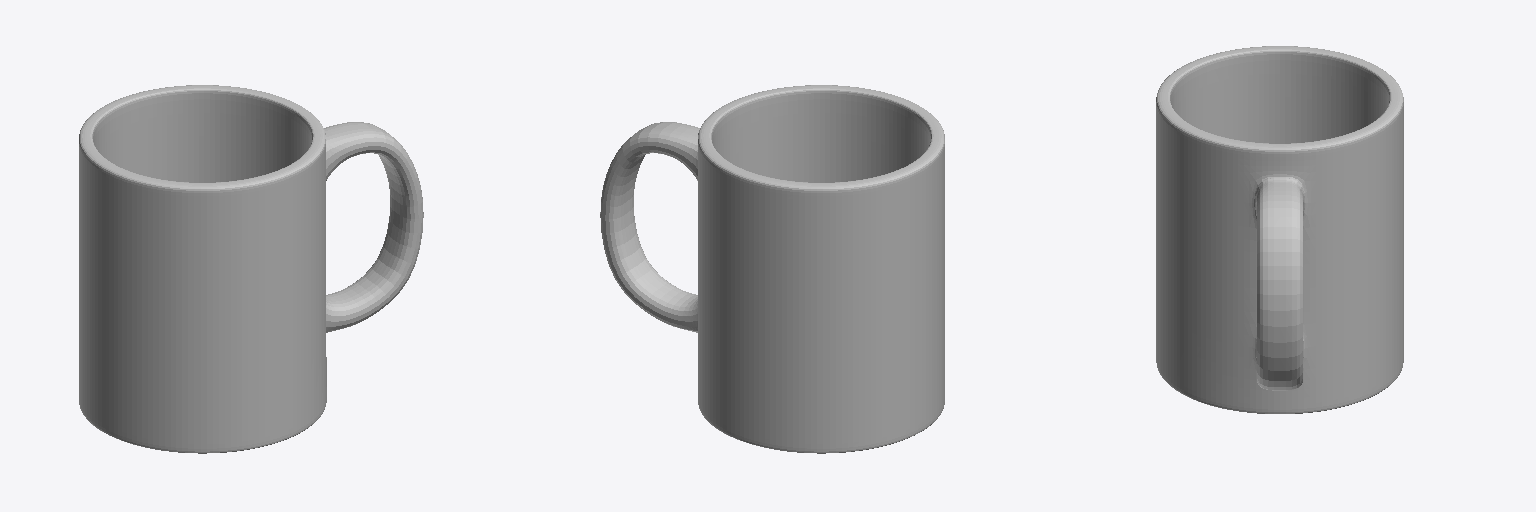
The model's file is Mug.obj.
3 views of the same model, side by side, from view 1: azimuth 30°, elevation 25°; view 2: azimuth 150°, elevation 25°; view 3: azimuth 270°, elevation 25° (orthographic).
Visible parts, largest first — view 1: Mug; view 2: Mug; view 3: Mug.
Part boxes in pixels (x1,y1,x2,y2): Mug: (79,85,423,453); Mug: (600,85,944,453); Mug: (1156,46,1403,413).
Size of the model in its own units: 0.1895 by 0.1502 by 0.1265.